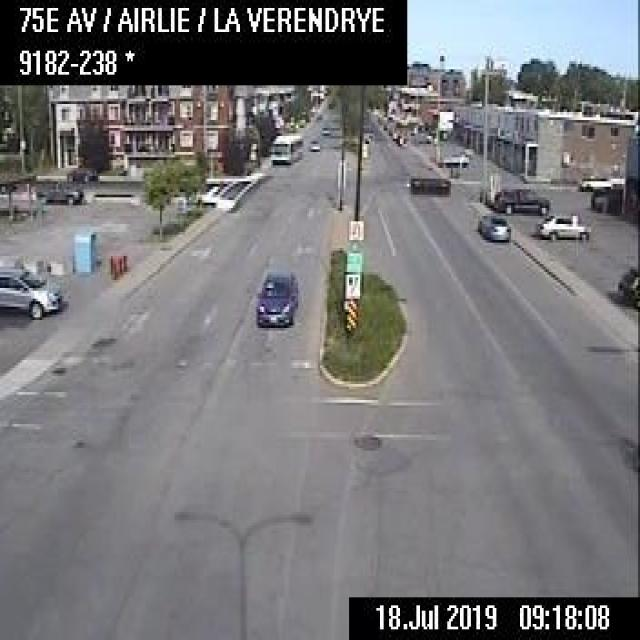bus: (267, 128, 302, 164)
construction: (120, 252, 126, 272), (111, 255, 116, 276), (116, 253, 121, 274), (108, 252, 112, 273)
vehicle: (0, 264, 62, 320), (252, 267, 298, 328), (492, 185, 549, 215), (534, 211, 588, 240), (474, 208, 511, 242), (40, 180, 82, 203), (615, 263, 637, 306), (576, 171, 616, 190), (442, 148, 468, 167), (67, 163, 95, 180), (305, 135, 319, 151), (319, 123, 328, 133)
